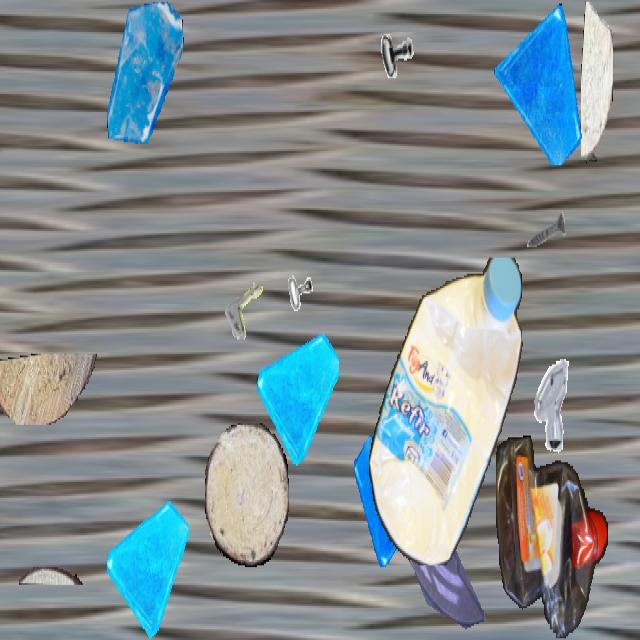glass: (494, 2, 586, 165), (401, 489, 485, 638), (107, 492, 189, 638), (257, 320, 339, 466), (105, 2, 185, 144), (354, 432, 430, 567)
metal: (221, 251, 281, 357), (520, 351, 578, 454), (275, 268, 325, 358), (525, 192, 567, 267), (377, 16, 417, 87)
plastic: (368, 257, 524, 564), (496, 436, 608, 638)
wood: (205, 423, 289, 565), (0, 354, 99, 425), (581, 2, 613, 162), (19, 567, 83, 585)
